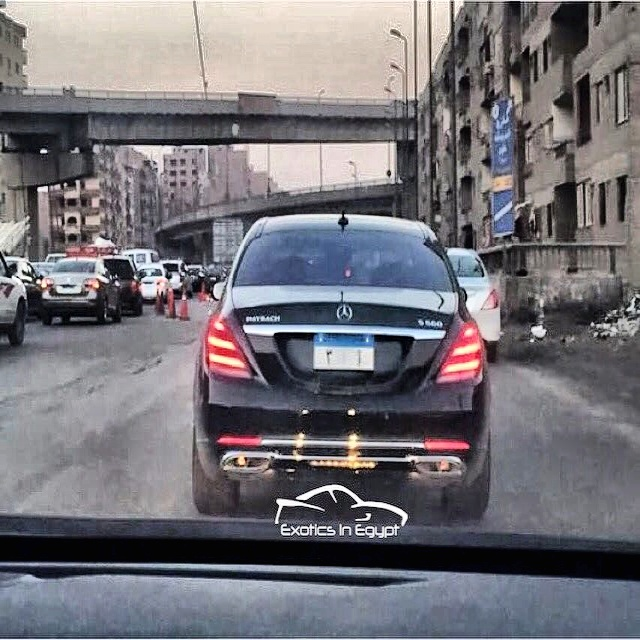License Plate: (311, 333, 376, 373)
